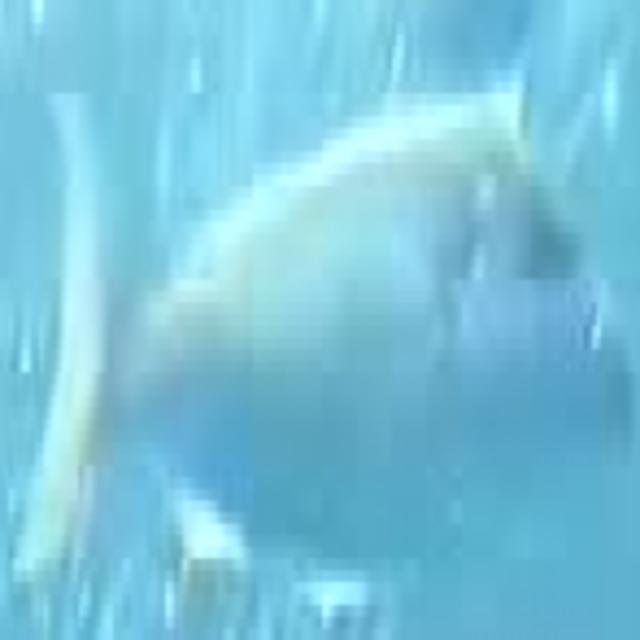fish: (4, 11, 639, 640)
